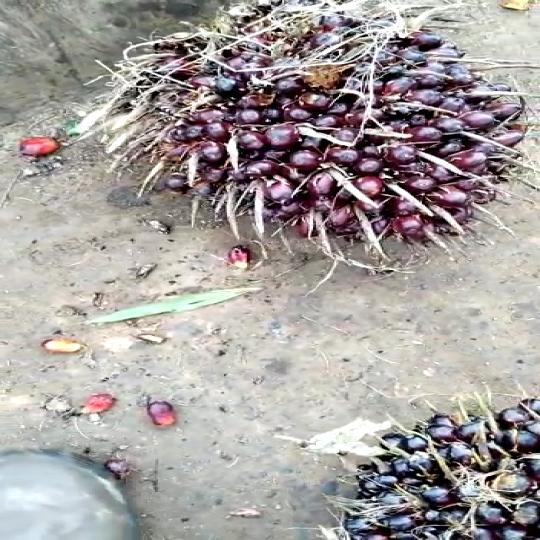kurang masak: (76, 0, 540, 270)
